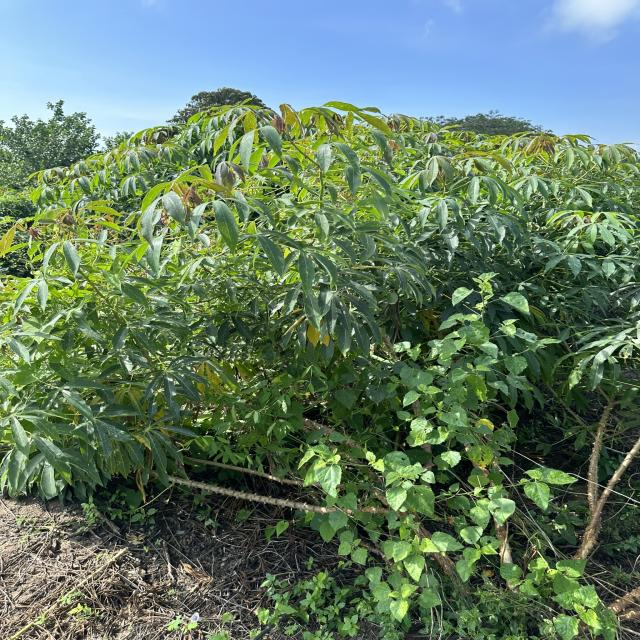Maleza: (285, 442, 616, 638), (230, 368, 460, 483), (432, 263, 554, 459), (365, 324, 496, 463)
